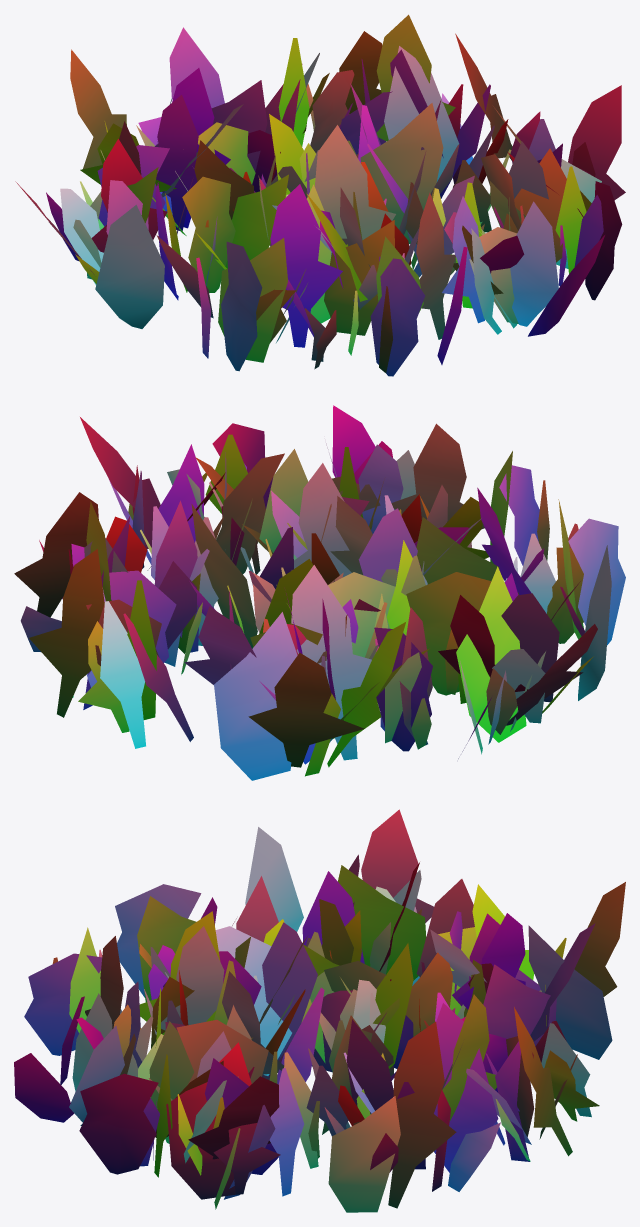
File: Grass_Clumps_rbptq_Low_rbptq_VarA_LOD0.fbx
3 views of the same model, one above another, from view 1: azimuth 30°, elevation 25°; view 2: azimuth 150°, elevation 25°; view 3: azimuth 270°, elevation 25° (orthographic). The views are drawn at different scales.
Parts seen in each view (by area): view 1: _f343_VarA_LOD1; view 2: _f343_VarA_LOD1; view 3: _f343_VarA_LOD1.
Boxes of the visible parts, x1,y1,x2,y2 form: _f343_VarA_LOD1: (15, 14, 625, 376); _f343_VarA_LOD1: (14, 405, 625, 780); _f343_VarA_LOD1: (14, 809, 625, 1212).
Bounding box in the file's own units: 113 × 33.58 × 105.
